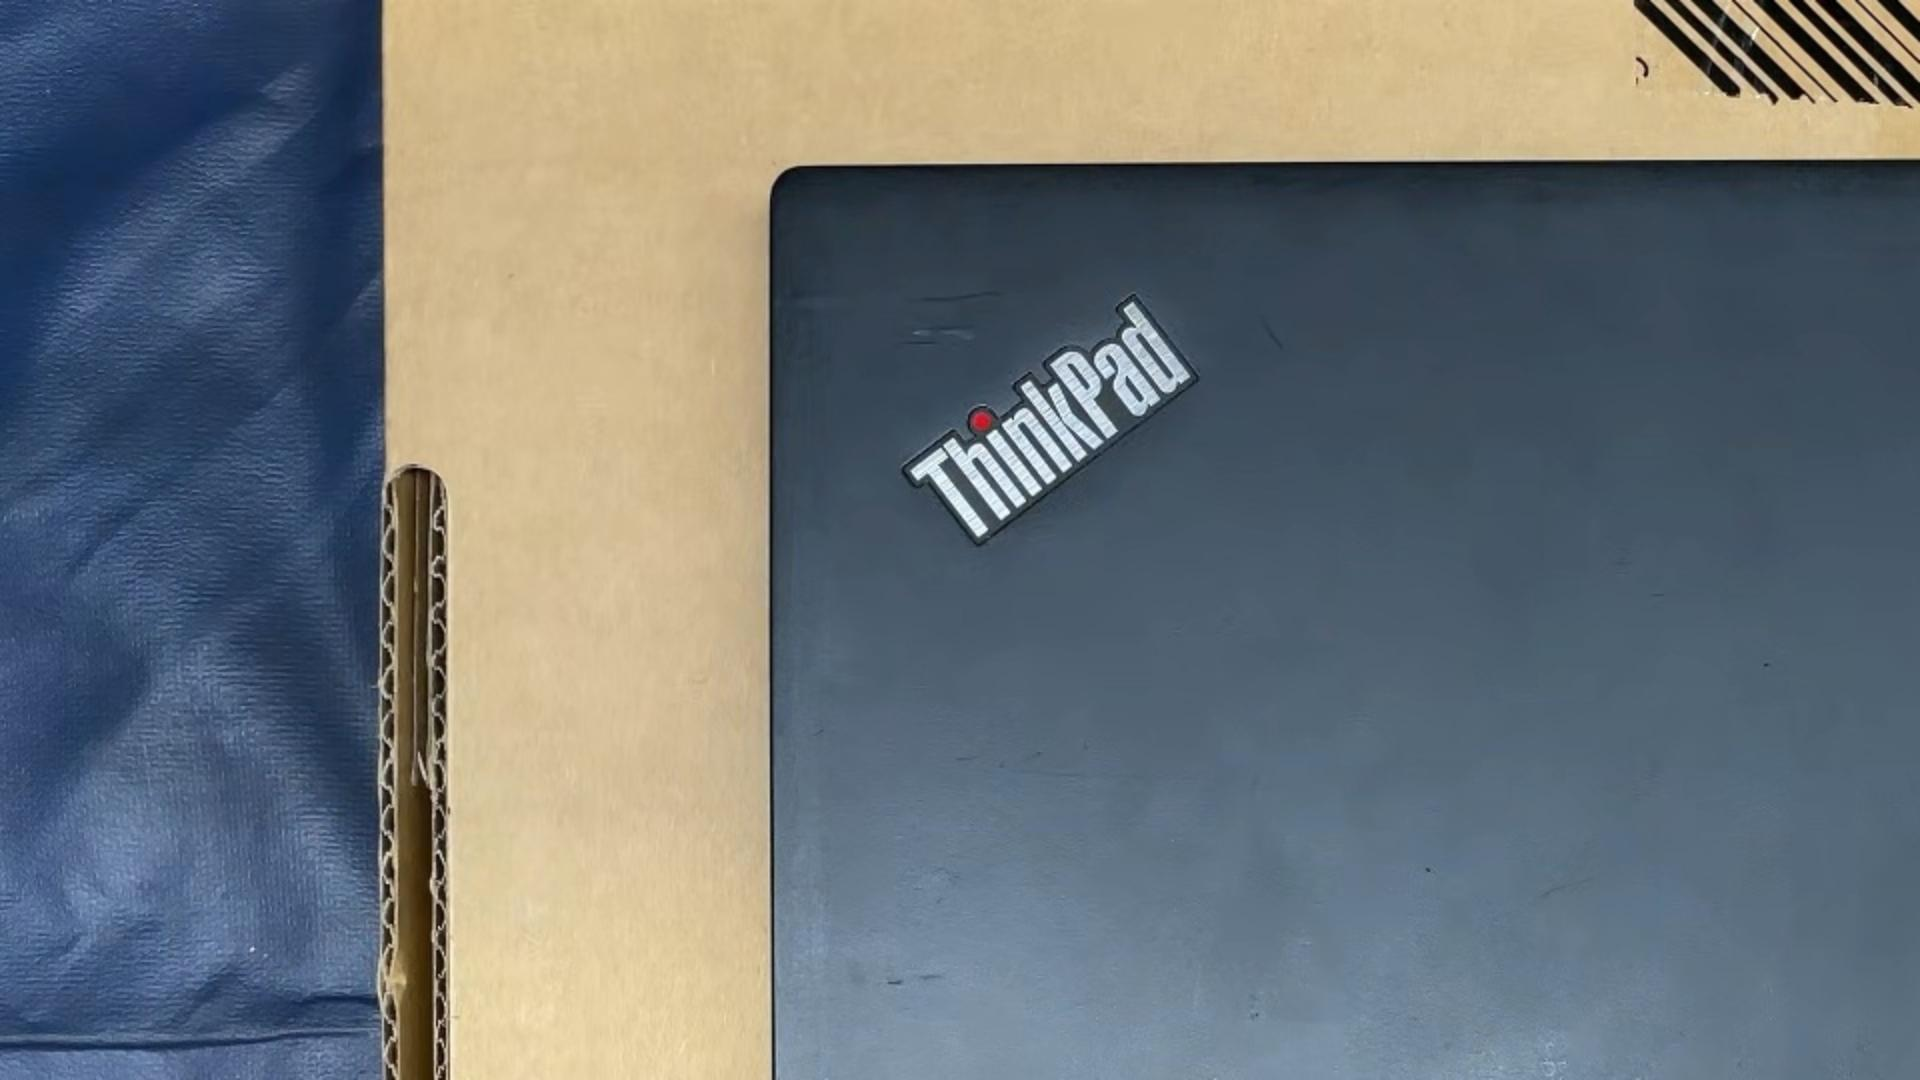chip: (1423, 864, 1435, 874), (1762, 661, 1771, 669)
scratches: (911, 286, 1006, 302), (1540, 876, 1596, 899), (1259, 318, 1286, 352), (907, 323, 973, 334), (1025, 770, 1087, 778), (893, 338, 940, 347), (953, 754, 981, 761), (885, 980, 905, 985), (1650, 592, 1665, 597)
